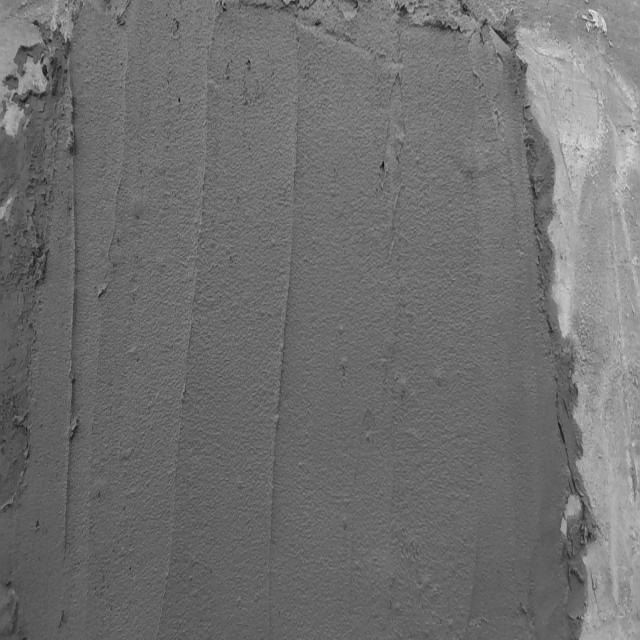trowels marks: (264, 198, 301, 561), (60, 78, 81, 555)
